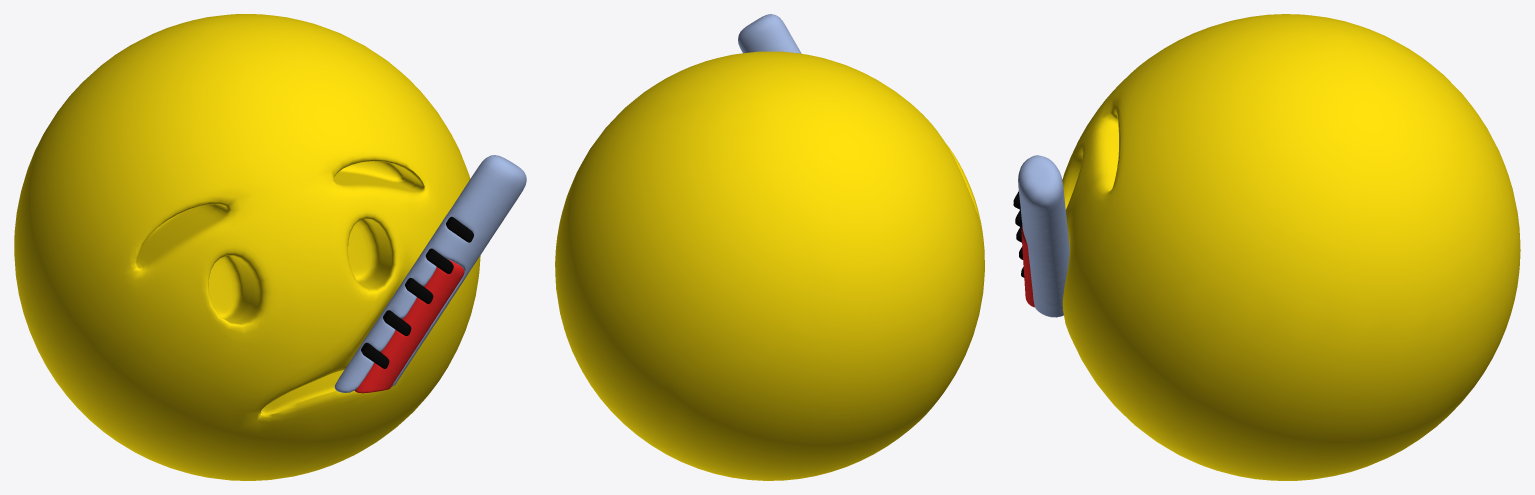
The model's file is thermometer.dae.
3 renders of one model, left to right at view 1: azimuth 30°, elevation 25°; view 2: azimuth 150°, elevation 25°; view 3: azimuth 270°, elevation 25°, orthographic. The views are drawn at different scales.
Visible parts, largest first — view 1: Group9951, Group15222, Group55287; view 2: Group9951, Group15222; view 3: Group9951, Group15222.
Part boxes in pixels (x1,y1,x2,y2): Group9951: (14, 14, 480, 480); Group15222: (334, 155, 526, 392); Group55287: (355, 260, 464, 393); Group9951: (555, 51, 984, 480); Group15222: (738, 14, 801, 53); Group9951: (1062, 14, 1520, 480); Group15222: (1018, 155, 1069, 317).
Bounding box in the file's own units: 23.01 × 23.04 × 25.
4 materials, 4 textured.
